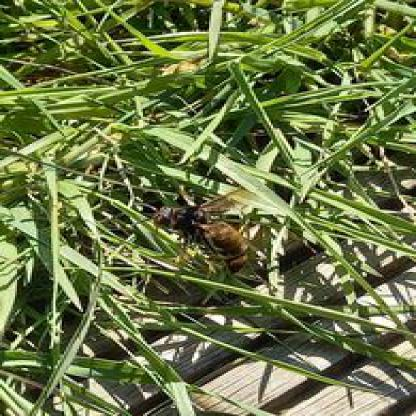Asian Hornet: (126, 179, 274, 280)
